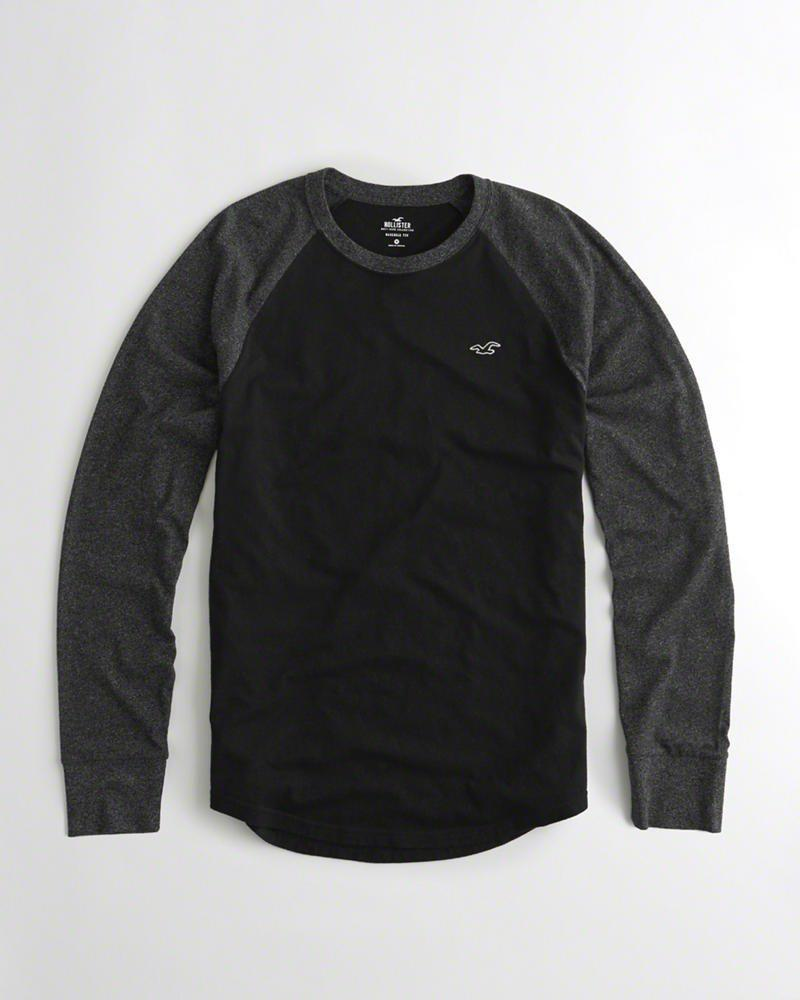teeshirt: (26, 172, 765, 974)
